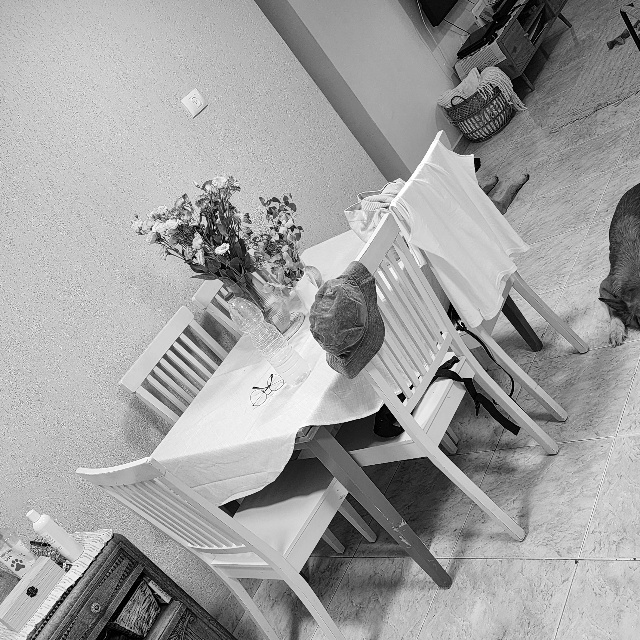glasses: (249, 373, 286, 406)
